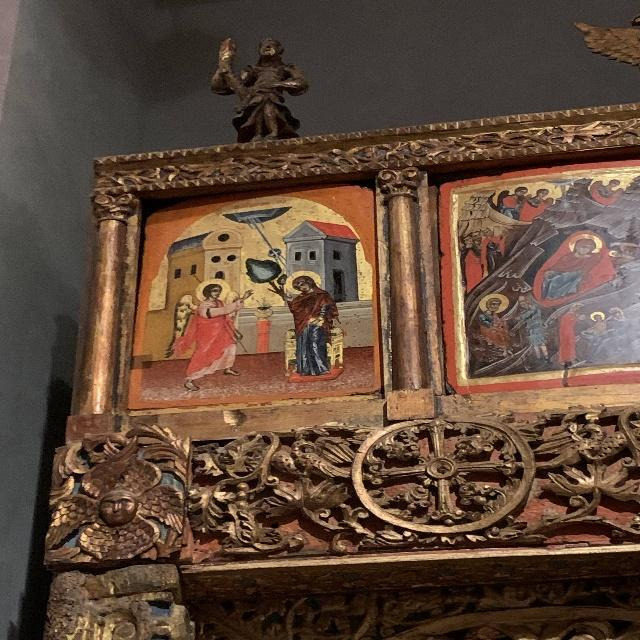angel: (162, 278, 250, 388)
aura: (285, 271, 320, 300), (196, 278, 230, 301)
mary: (279, 270, 349, 379)
wing: (170, 294, 196, 359)
